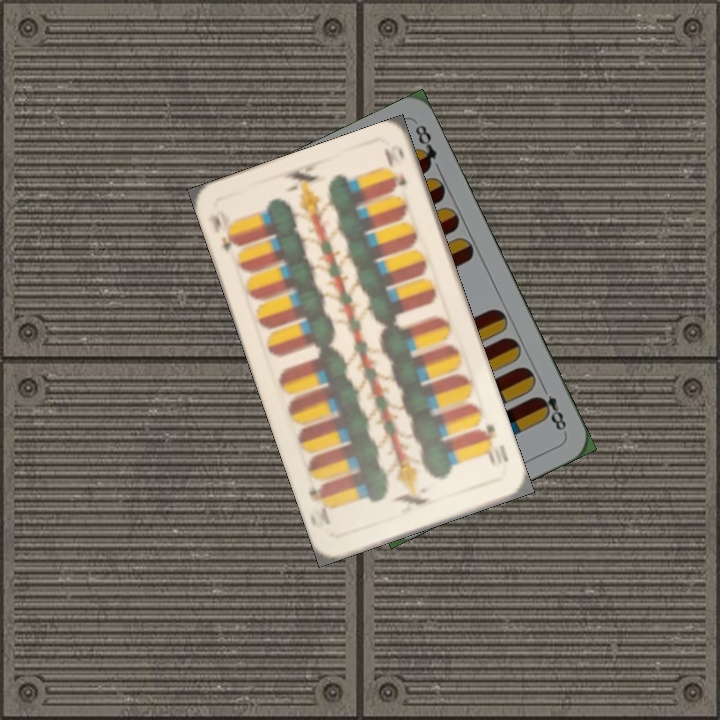E10: (204, 206, 243, 254), (475, 420, 511, 468)
E8: (532, 380, 569, 433)
